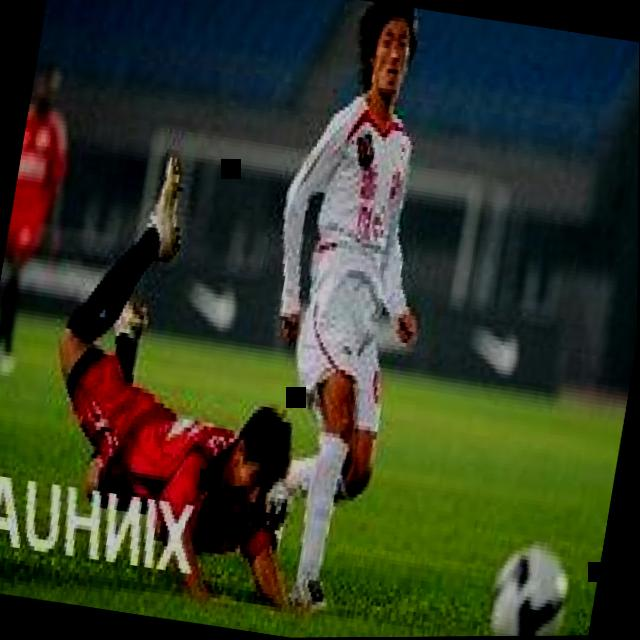Fall-Detected: (0, 101, 382, 610)
